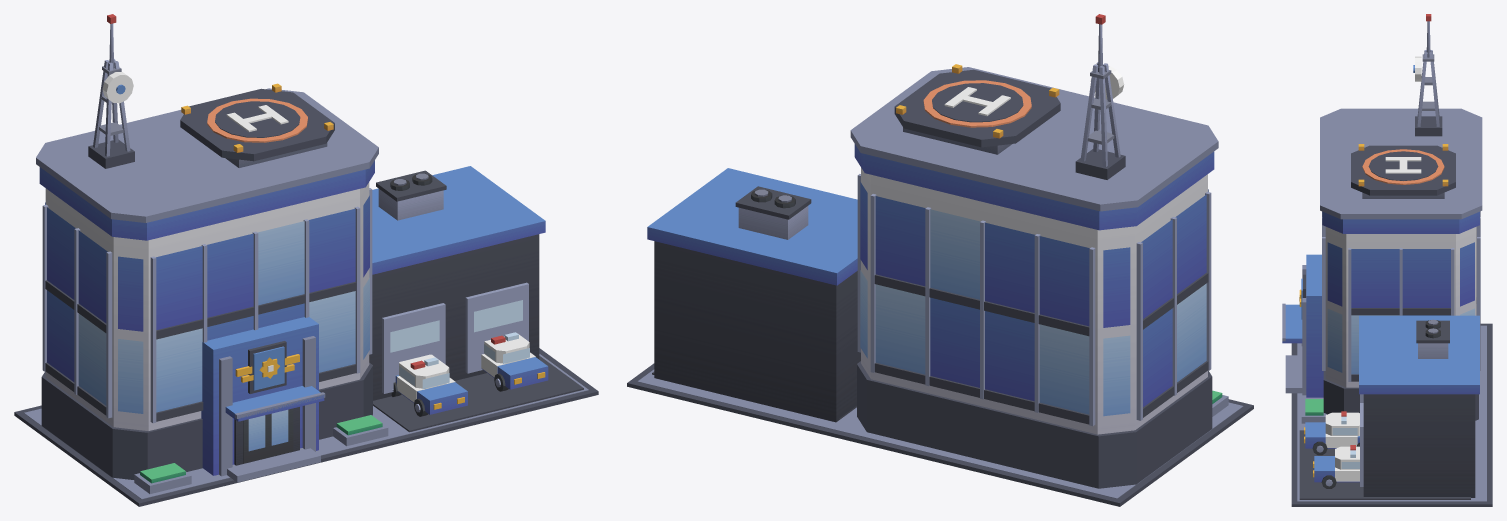
Rendered from police_precinct_2x1.glb.
3 renders of one model, left to right at view 1: azimuth 30°, elevation 25°; view 2: azimuth 150°, elevation 25°; view 3: azimuth 270°, elevation 25°, orthographic. The views are drawn at different scales.
Parts seen in each view (by area): view 1: police_precinct_2x1; view 2: police_precinct_2x1; view 3: police_precinct_2x1.
Part boxes in pixels (x1,y1,x2,y2): police_precinct_2x1: (14, 14, 598, 506); police_precinct_2x1: (627, 14, 1253, 506); police_precinct_2x1: (1282, 14, 1492, 506).
Size of the model in its own units: 3.62 by 3.12 by 1.78.
Materials: 1 (1 with a texture image).
